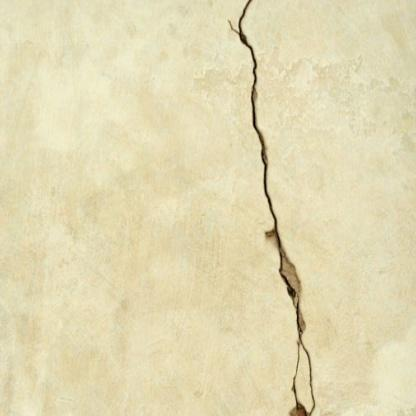Cracks: (224, 0, 321, 416)
